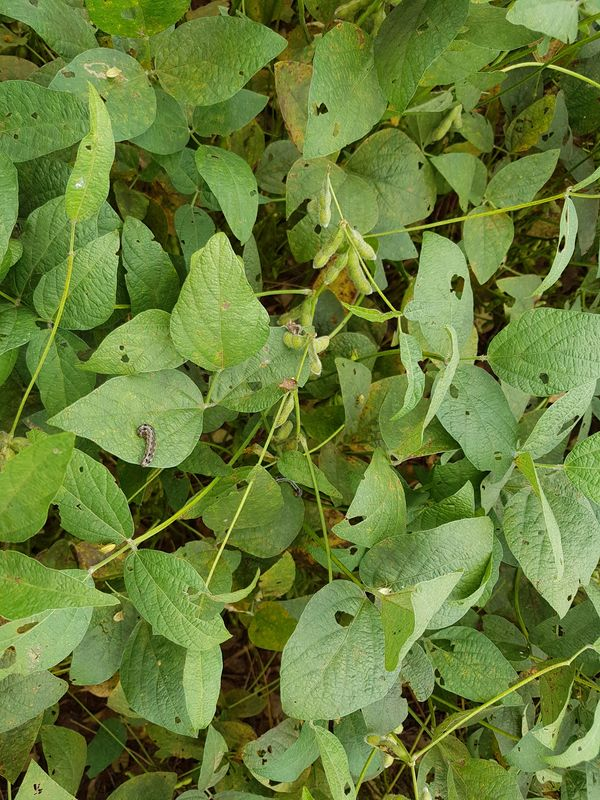Euschistus_heros_adulto: (273, 372, 306, 399)
Euschistus_heros_ninfa: (91, 537, 121, 563), (99, 59, 129, 84), (109, 606, 130, 627)
Spodoptera_albula: (124, 413, 172, 475), (266, 470, 309, 505)
